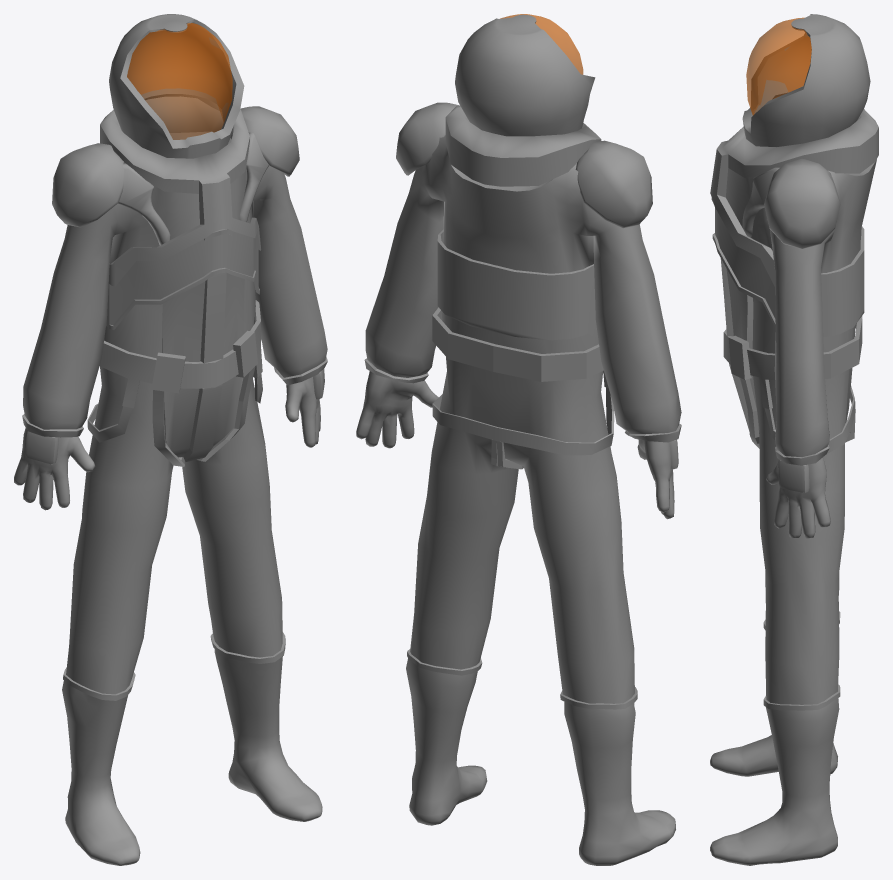
Rendered from Spacesuit.FBX.
The picture shows the model from 3 angles, left to right: view 1: azimuth 30°, elevation 25°; view 2: azimuth 150°, elevation 25°; view 3: azimuth 270°, elevation 25°; orthographic projection. The views are drawn at different scales.
Visible parts, largest first — view 1: Cylinder001, Spacesuit, Cylinder002, Sphere001, Plane004, Line001; view 2: Cylinder001, Spacesuit, Cylinder002, Sphere001, Plane004; view 3: Cylinder001, Spacesuit, Cylinder002, Sphere001, Plane004, Line001.
Boxes of the visible parts, <box> form: Cylinder001: <box>22,131,327,700</box>; Spacesuit: <box>14,23,324,865</box>; Cylinder002: <box>100,96,261,329</box>; Sphere001: <box>109,14,244,158</box>; Plane004: <box>87,300,262,466</box>; Line001: <box>118,132,268,245</box>; Cylinder001: <box>364,135,681,709</box>; Spacesuit: <box>356,14,678,865</box>; Cylinder002: <box>437,106,601,340</box>; Sphere001: <box>455,14,595,136</box>; Plane004: <box>432,307,614,469</box>; Cylinder001: <box>725,159,876,710</box>; Spacesuit: <box>710,17,840,865</box>; Cylinder002: <box>710,109,878,336</box>; Sphere001: <box>742,14,870,146</box>; Plane004: <box>723,316,862,453</box>; Line001: <box>742,167,779,237</box>.
Bounding box in the file's own units: 73.99 × 35.84 × 185.
